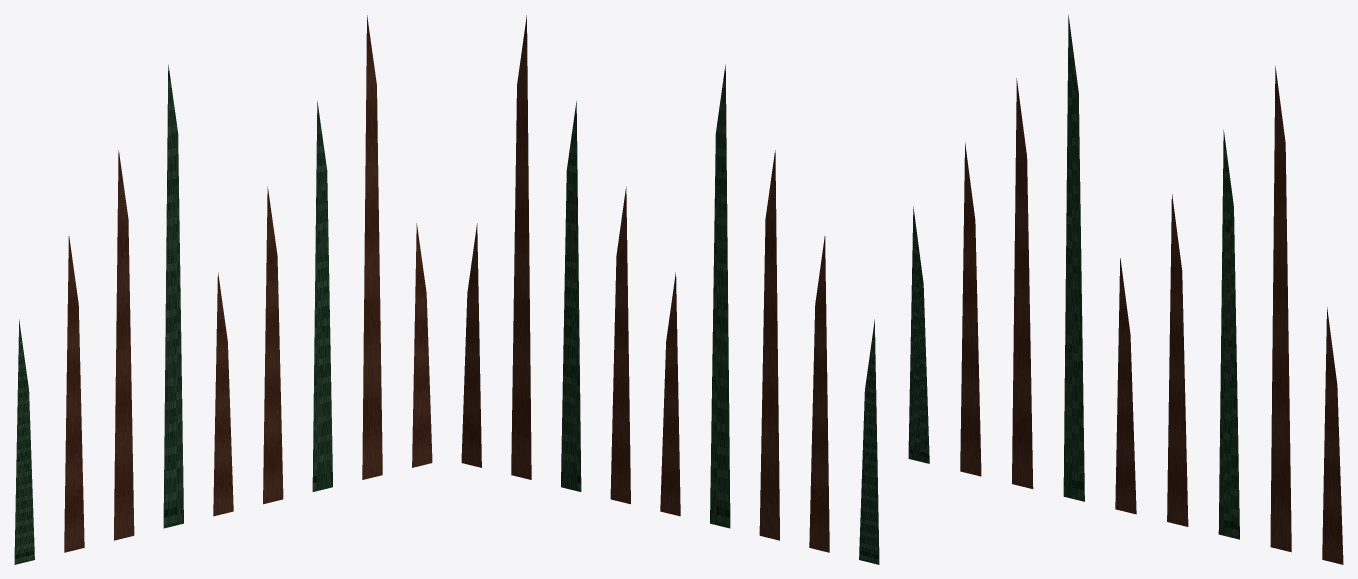
File: level_trace_damp_wall.glb
The picture shows the model from 3 angles, left to right: view 1: azimuth 30°, elevation 25°; view 2: azimuth 150°, elevation 25°; view 3: azimuth 330°, elevation 25°; orthographic projection. The views are drawn at different scales.
Visible parts, largest first — view 1: level_trace_damp_wall; view 2: level_trace_damp_wall; view 3: level_trace_damp_wall.
Boxes of the visible parts, bbox=[...] form: level_trace_damp_wall: bbox=[14, 15, 432, 564]; level_trace_damp_wall: bbox=[461, 15, 879, 564]; level_trace_damp_wall: bbox=[908, 15, 1343, 564].
Bounding box in the file's own units: 0.715 × 0.76 × 0.
2 materials, 2 textured.
